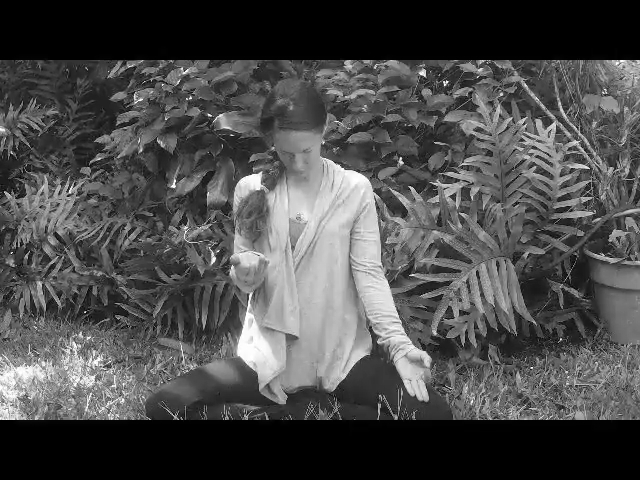person: (145, 79, 452, 420)
